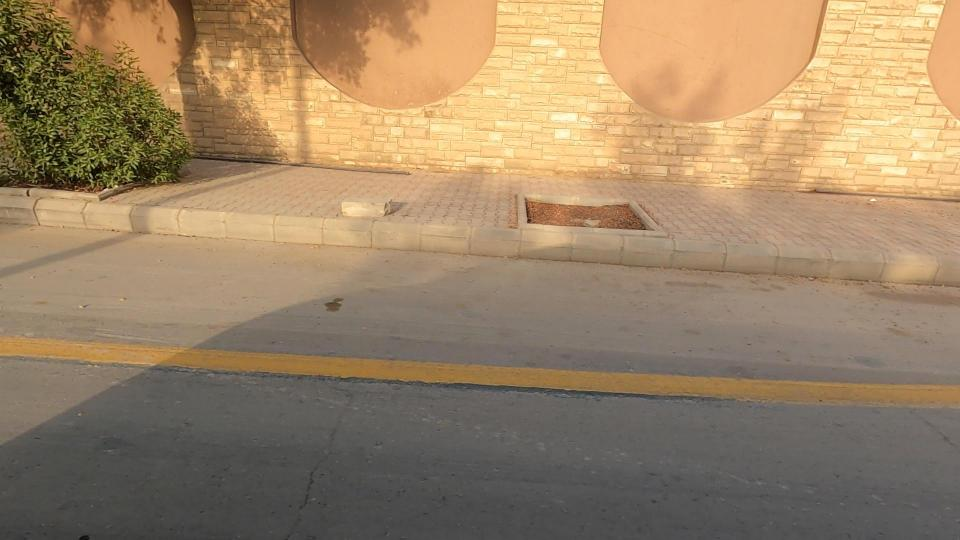CLUTTER_SIDEWALK: (459, 143, 702, 280)
